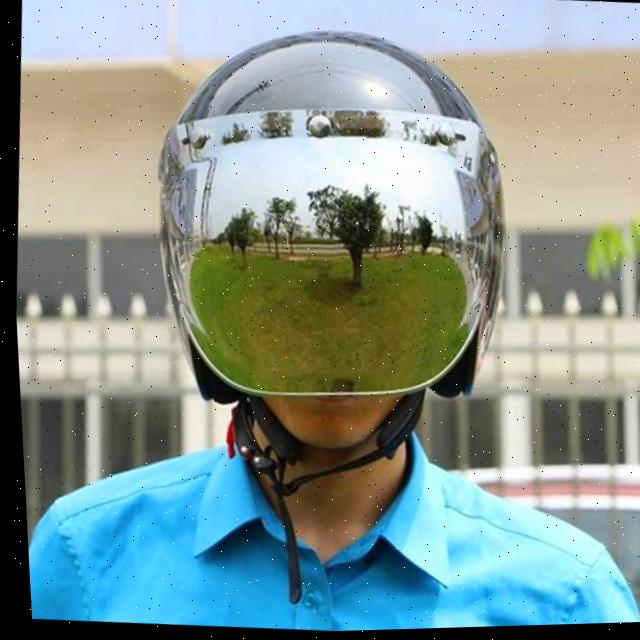helmet: (120, 5, 535, 524)
